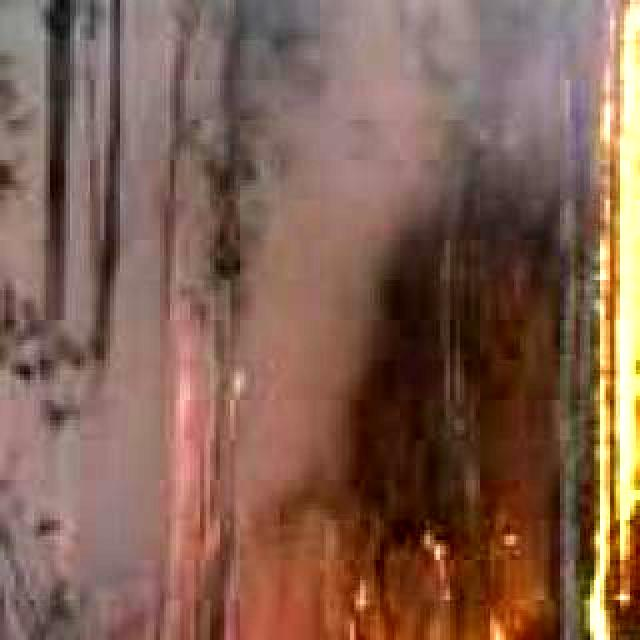fire: (604, 0, 640, 640), (334, 550, 548, 640), (112, 610, 186, 640)
